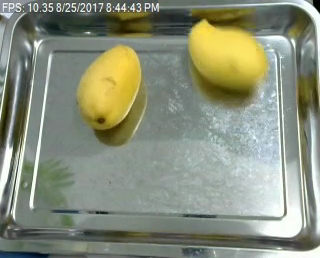Mango: (185, 18, 266, 93), (72, 42, 139, 132)
